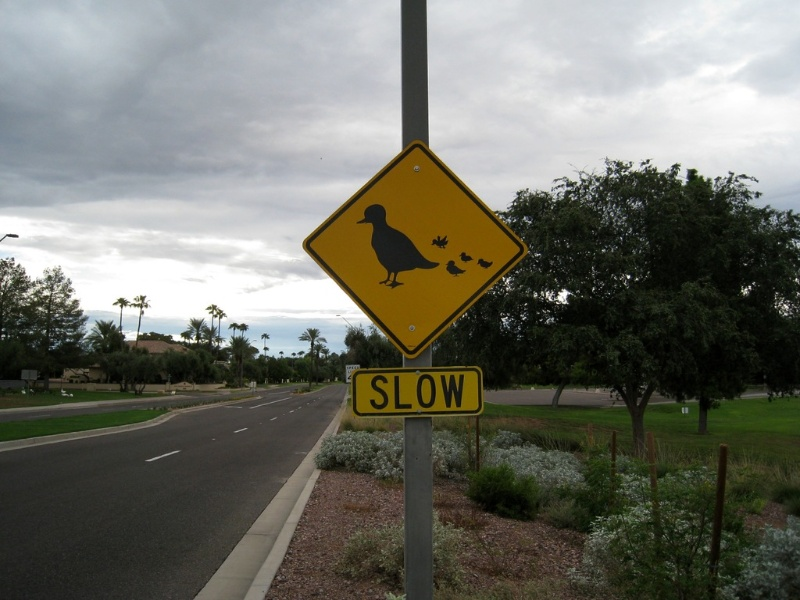animal_ahead: (296, 139, 531, 357)
go_slow: (345, 362, 487, 419)
